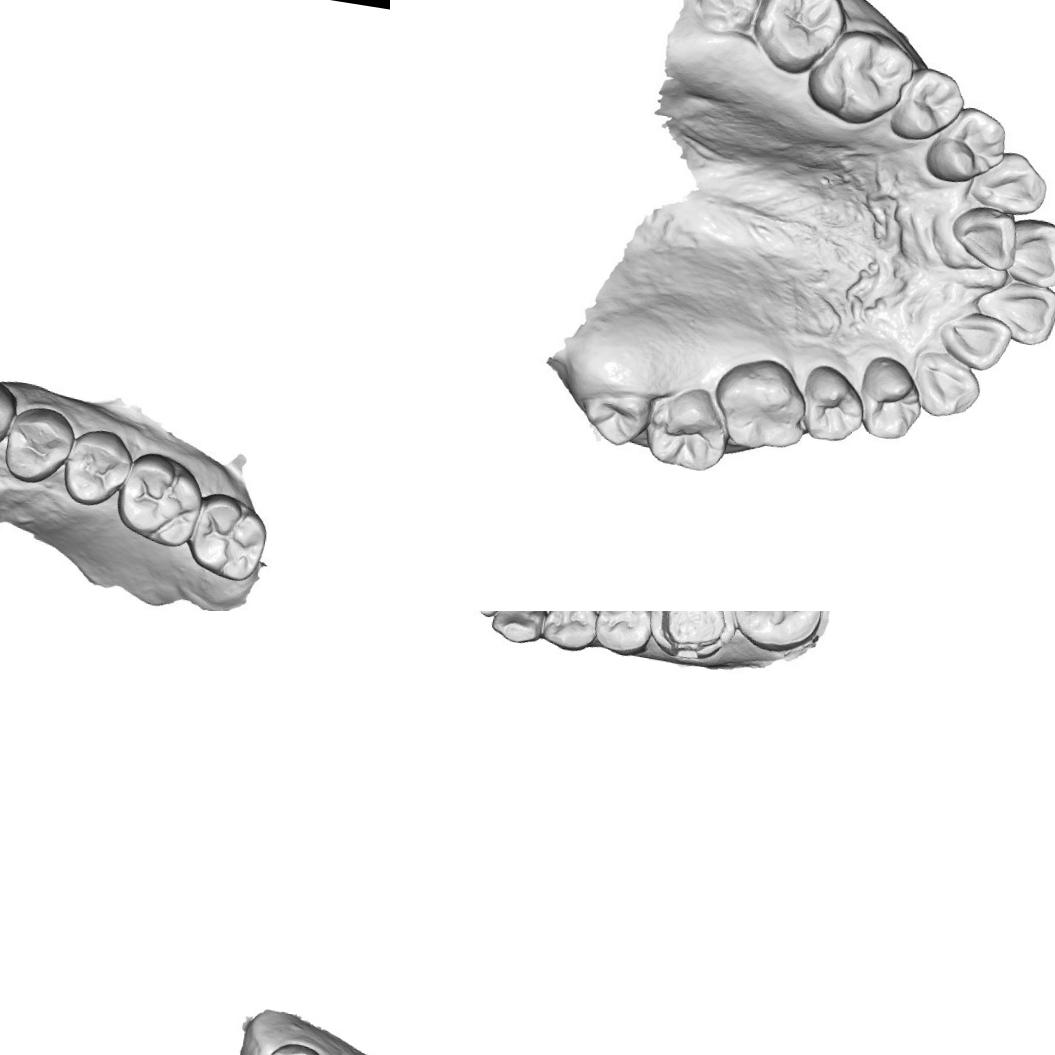canine: (909, 346, 984, 422), (976, 144, 1052, 218), (487, 611, 552, 649), (0, 368, 20, 456)
incisor: (976, 275, 1055, 343), (951, 202, 1025, 272), (938, 304, 1012, 372), (940, 308, 1010, 372), (1002, 217, 1055, 285)
inlay: (651, 611, 728, 664)
molar: (808, 20, 917, 127), (710, 357, 812, 461), (643, 379, 732, 478), (118, 449, 209, 543), (187, 489, 270, 586), (574, 363, 656, 448), (752, 0, 844, 72), (724, 611, 830, 659), (693, 0, 763, 42), (250, 1036, 327, 1055)
premolar: (926, 94, 1008, 186), (886, 63, 966, 152), (0, 400, 78, 486), (854, 353, 926, 443), (797, 362, 868, 446), (62, 426, 132, 511), (589, 611, 657, 656), (538, 611, 600, 655)
